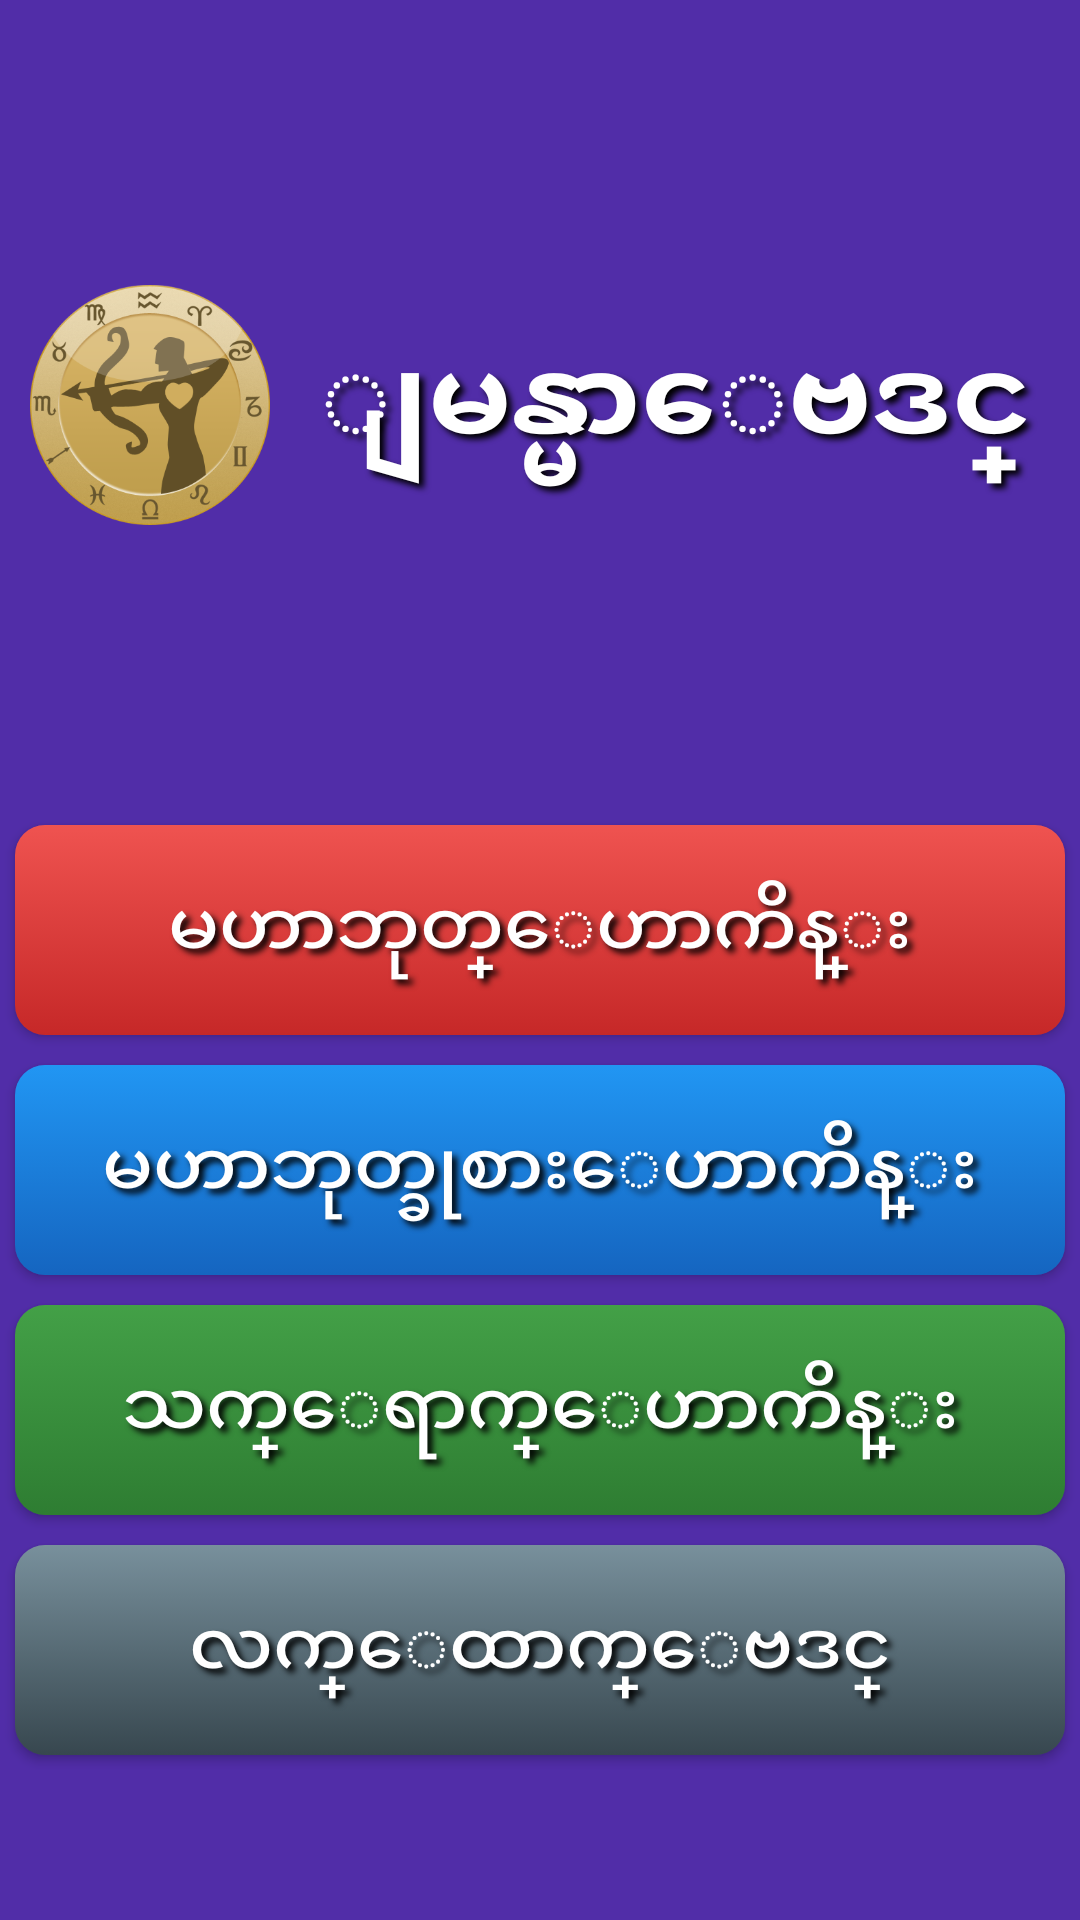

Screen size 1080px x 1920px. Icon name, then its center in pixels as [x,y]:
zodiac: [150,405]
